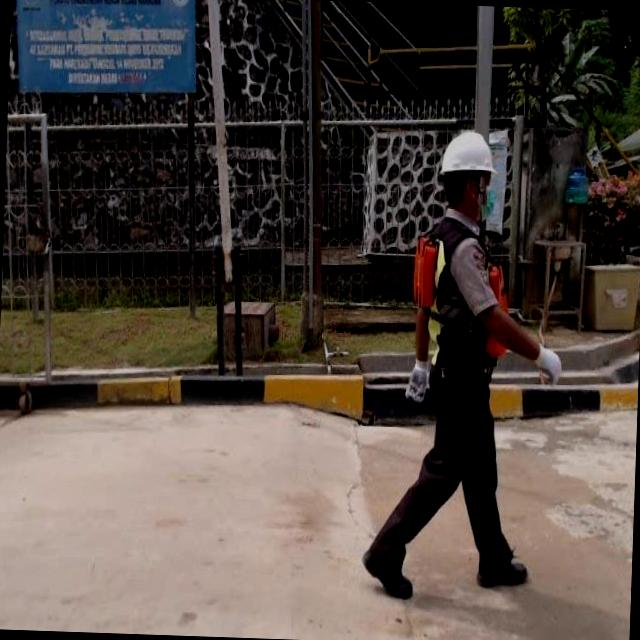vest: (408, 216, 514, 368)
